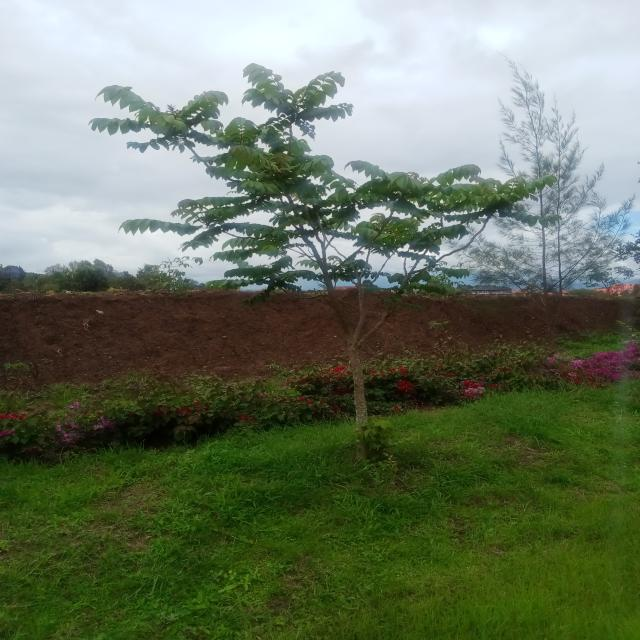Polyscias Kikuyensis: (99, 53, 574, 469)
